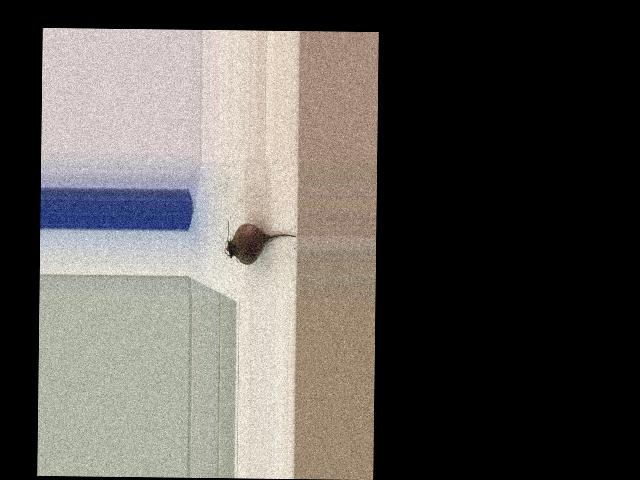beet: (224, 219, 296, 264)
